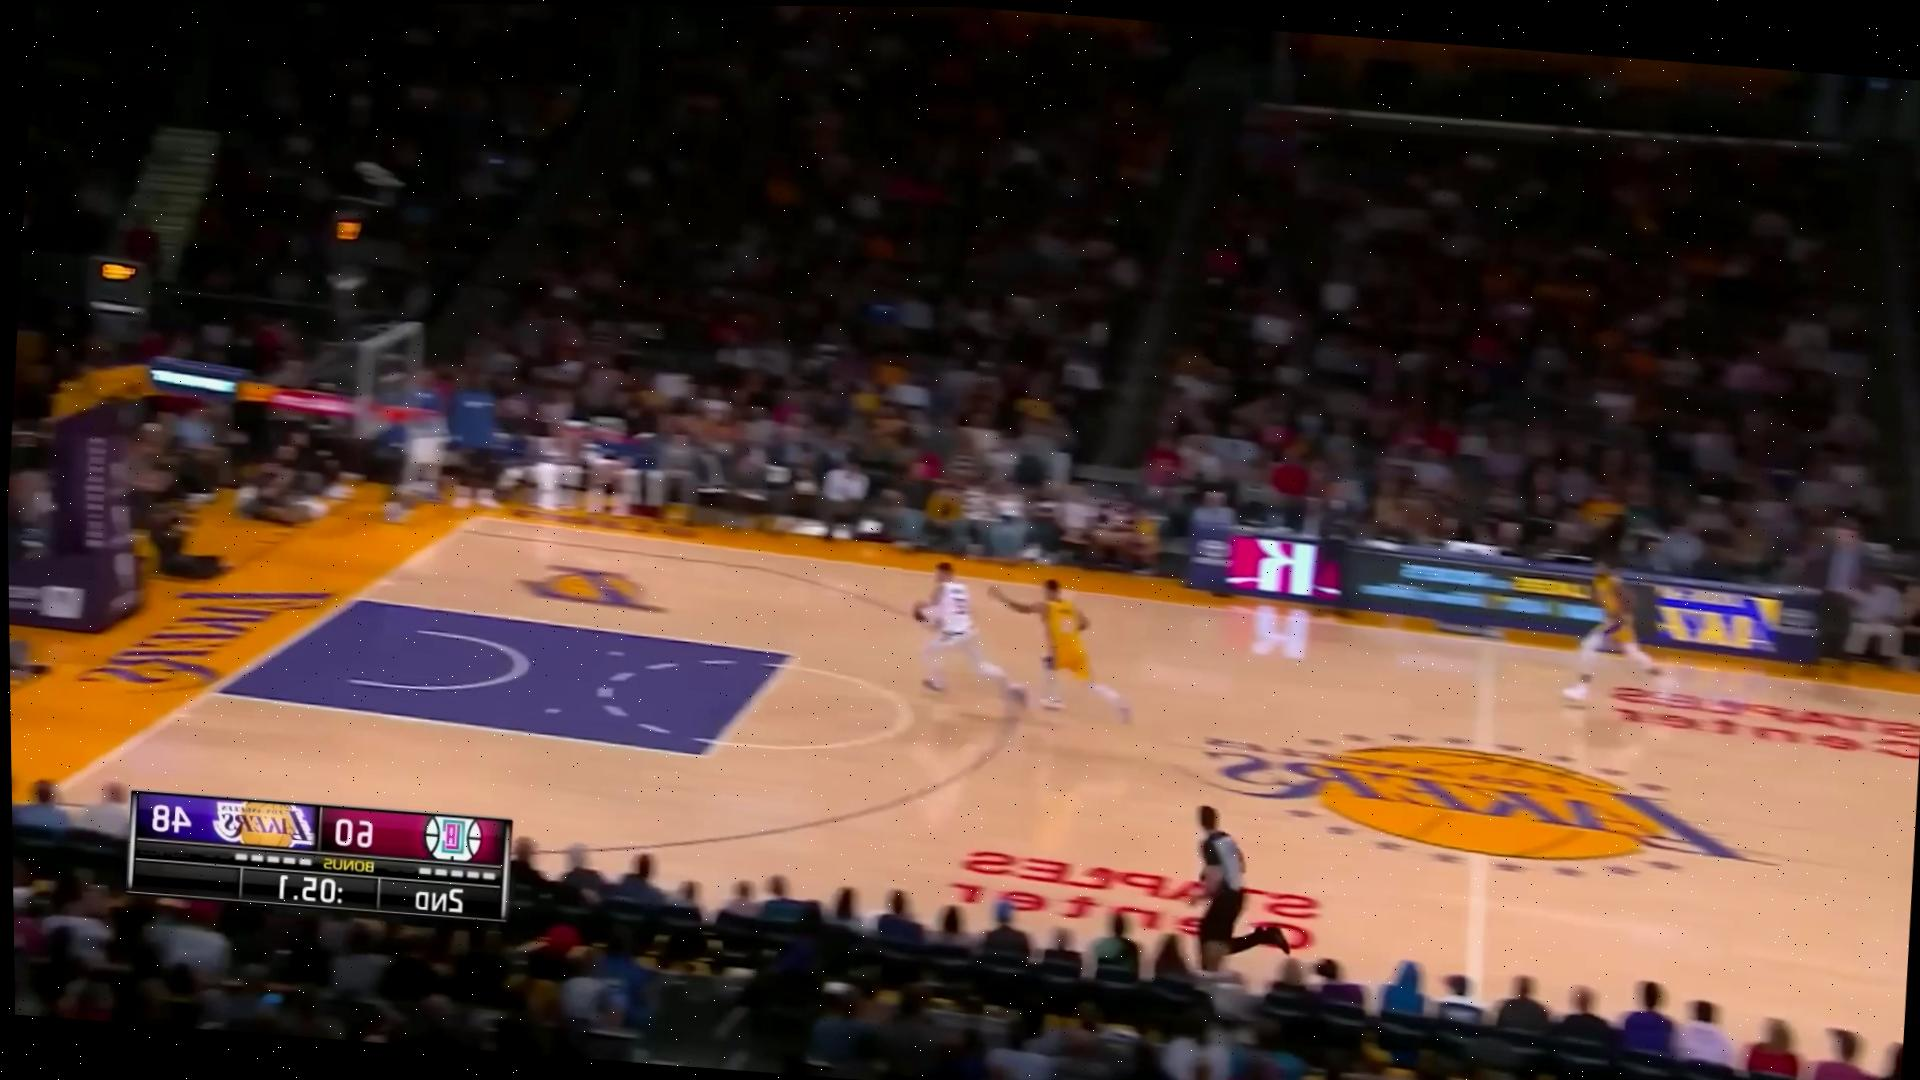no_foul: (880, 546, 1129, 717)
